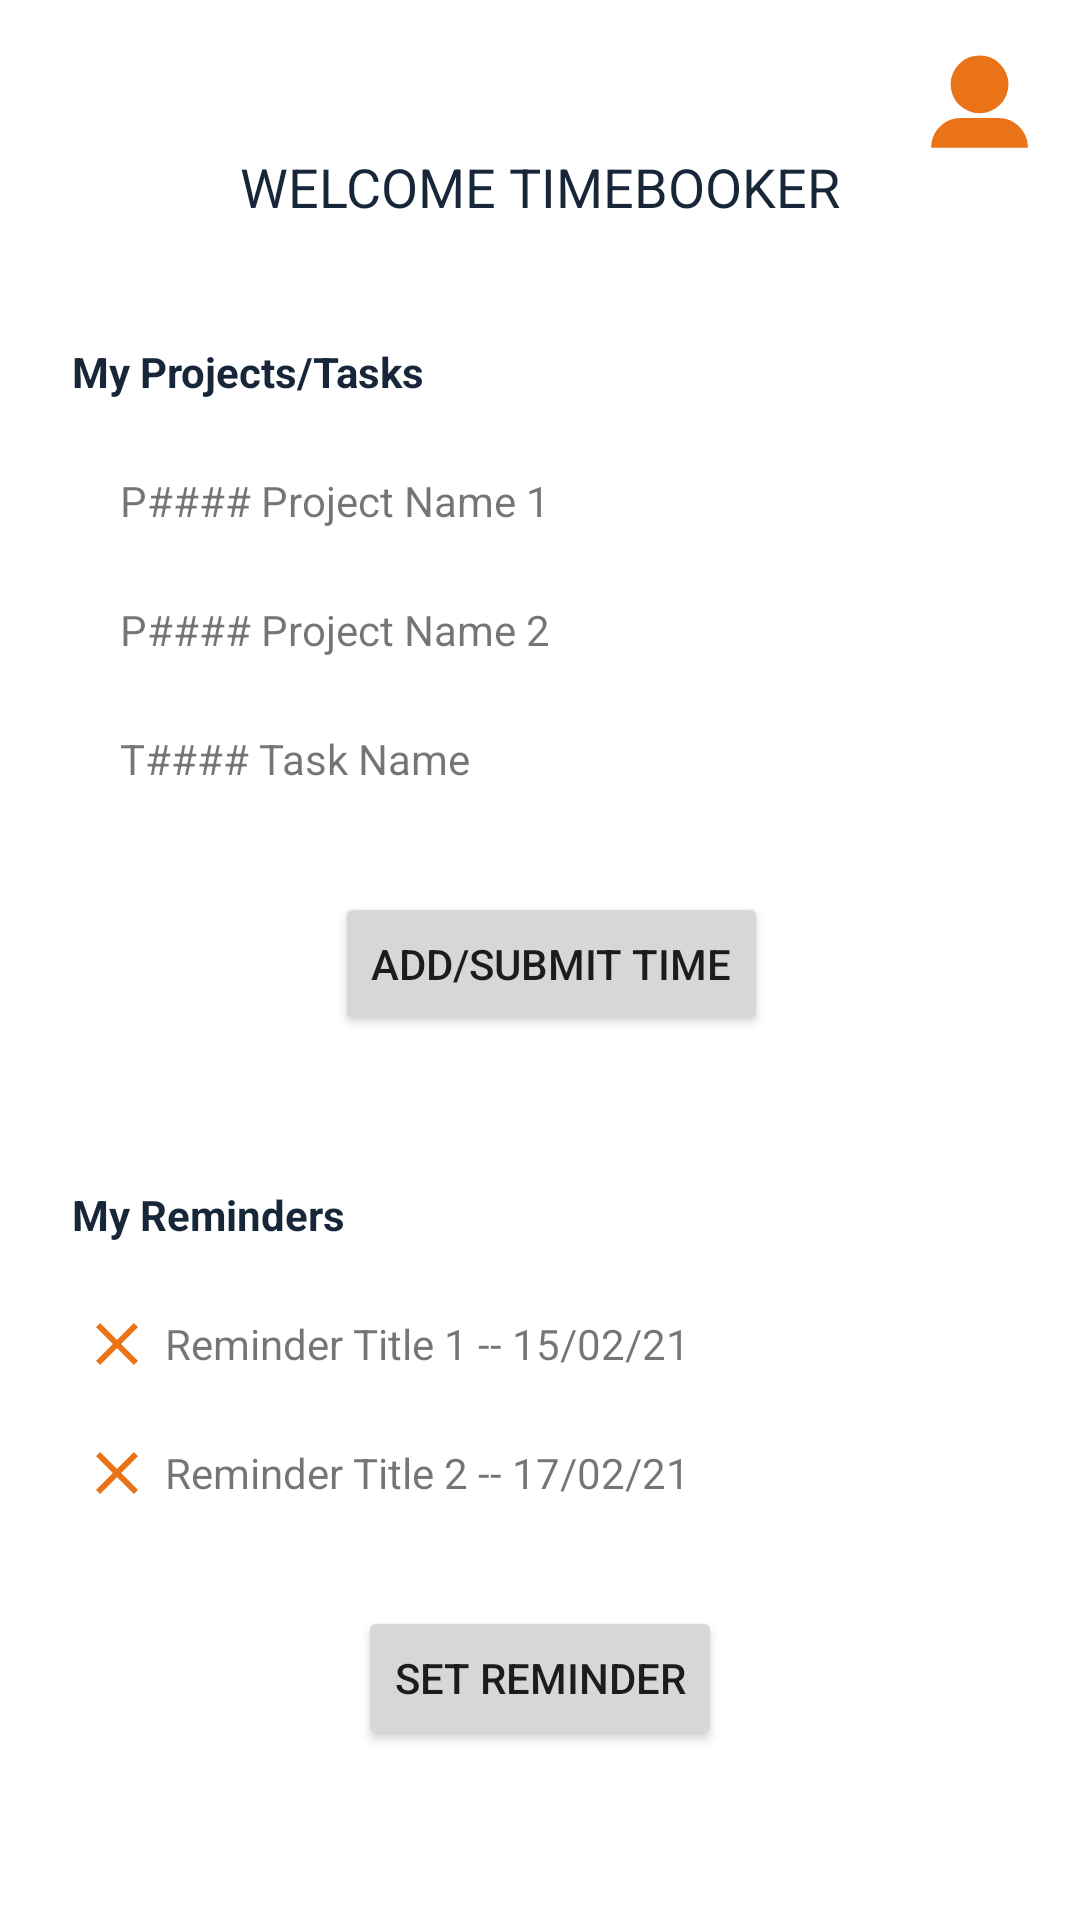

Icons on this 1080 × 1920 Android screen, each with the point to tap as point (x, y):
person: point (979, 101)
